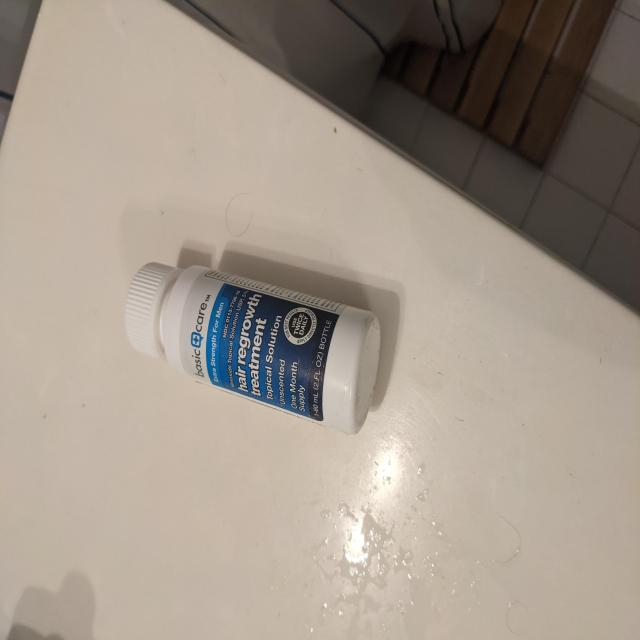litter: (121, 259, 378, 433)
